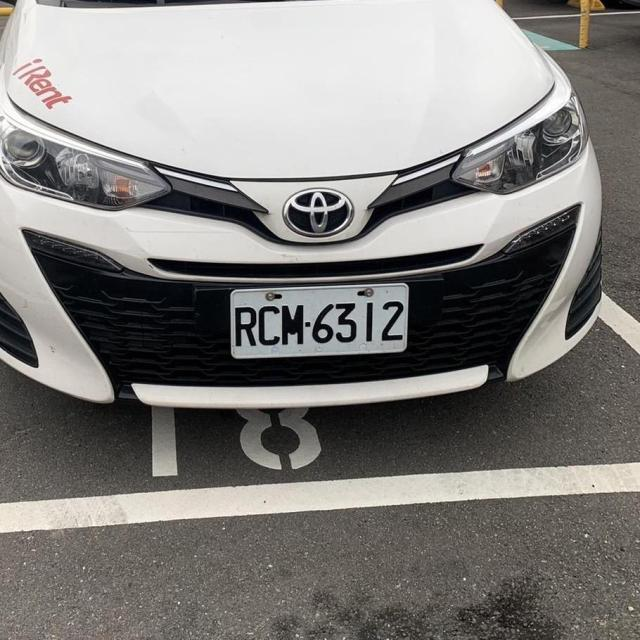W: (229, 283, 409, 361)
